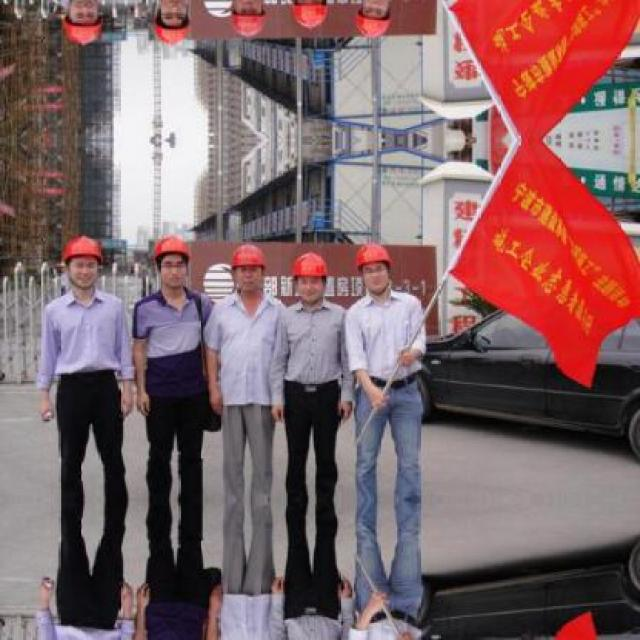helmet: (55, 231, 112, 289), (283, 246, 332, 308), (54, 0, 112, 51), (224, 238, 271, 297), (148, 234, 194, 292), (349, 242, 396, 293), (148, 0, 195, 48), (223, 0, 272, 43), (348, 0, 397, 39), (283, 0, 334, 35)
